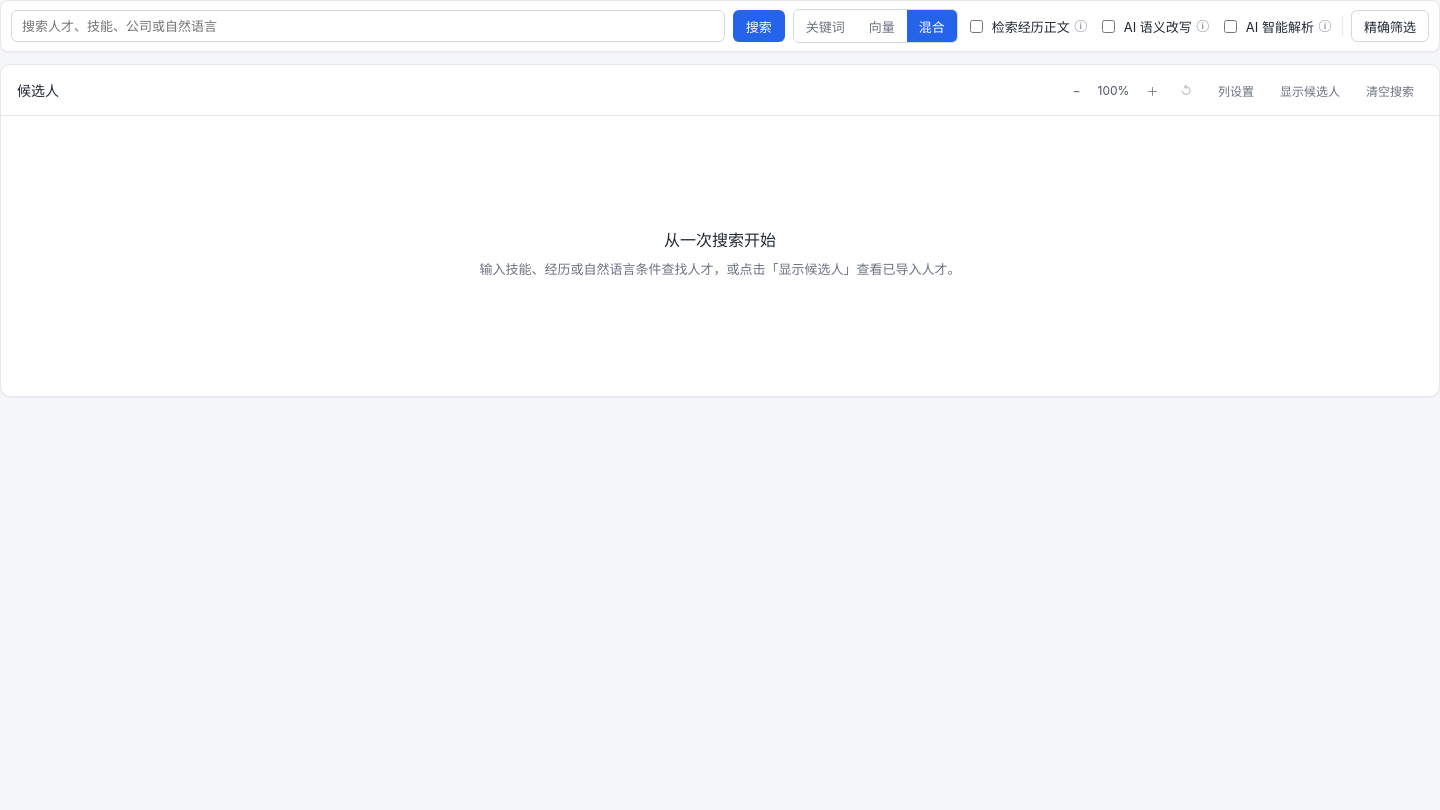
点左列「全部」清空两级并收起
Click the button "精确筛选" at {"x": 1390, "y": 26}, box [1351,10,1429,42]
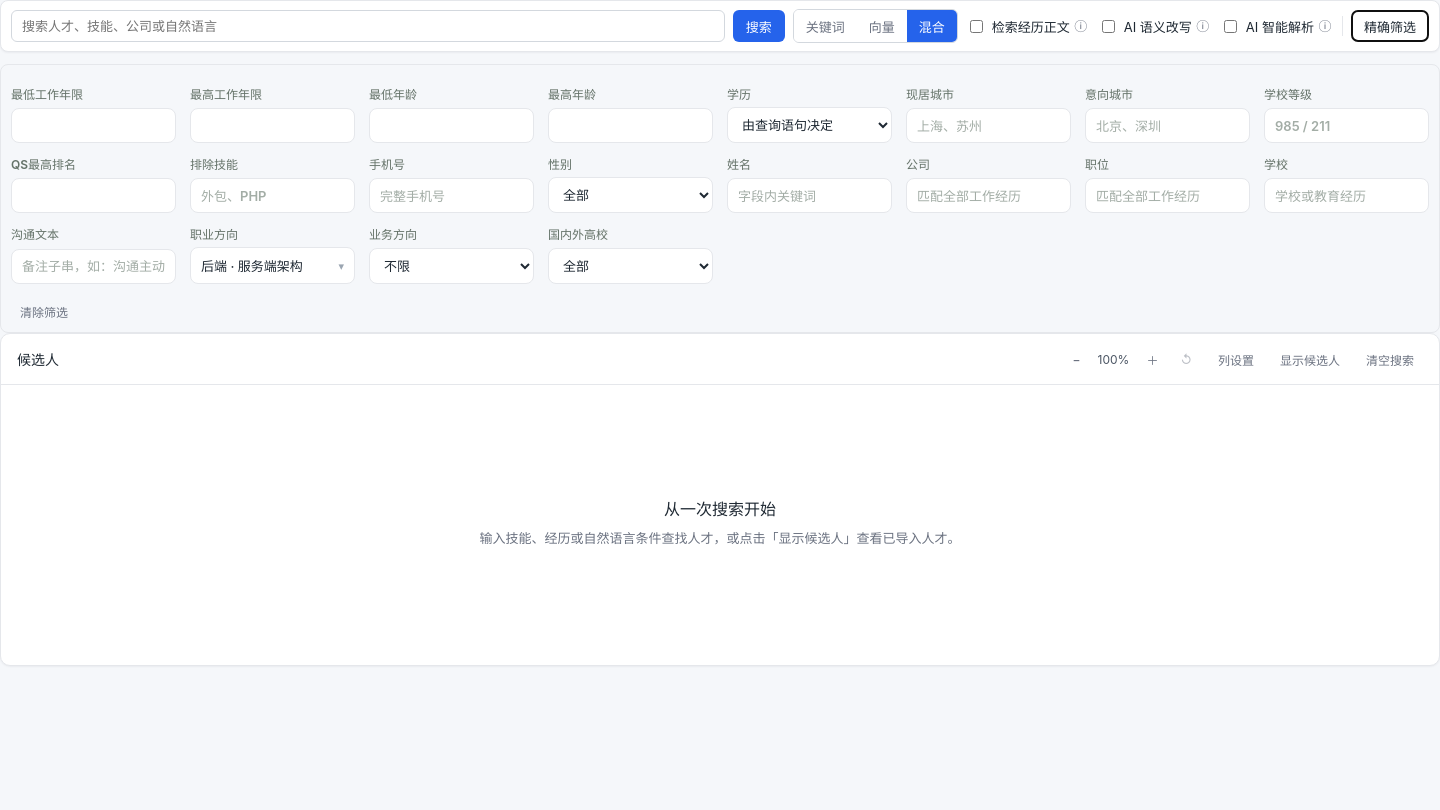
Click the button with aria-label "职业方向" at {"x": 272, "y": 266}, box [190,247,355,284]
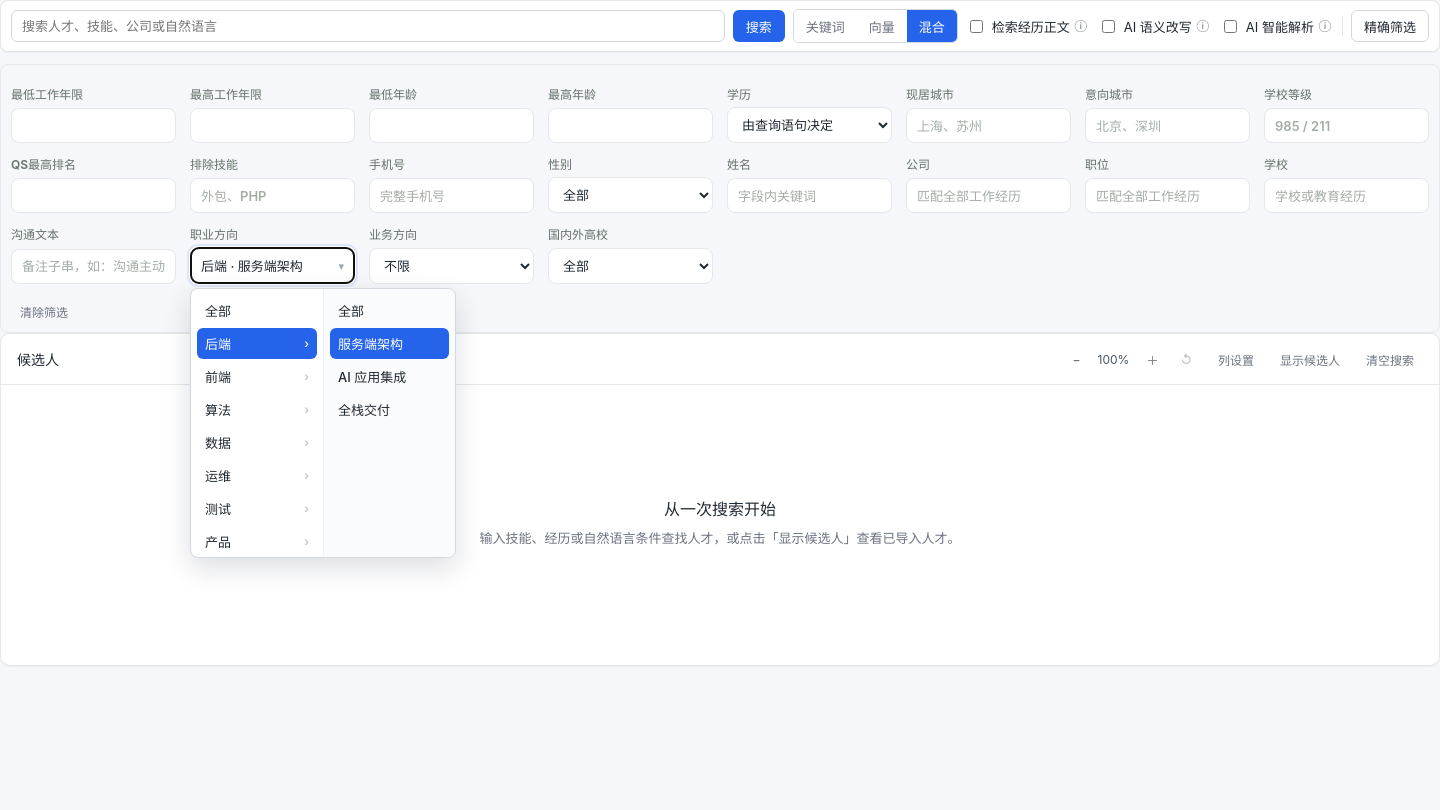
Click the button with aria-label "全部职业方向" at {"x": 257, "y": 310}, box [197,295,317,326]
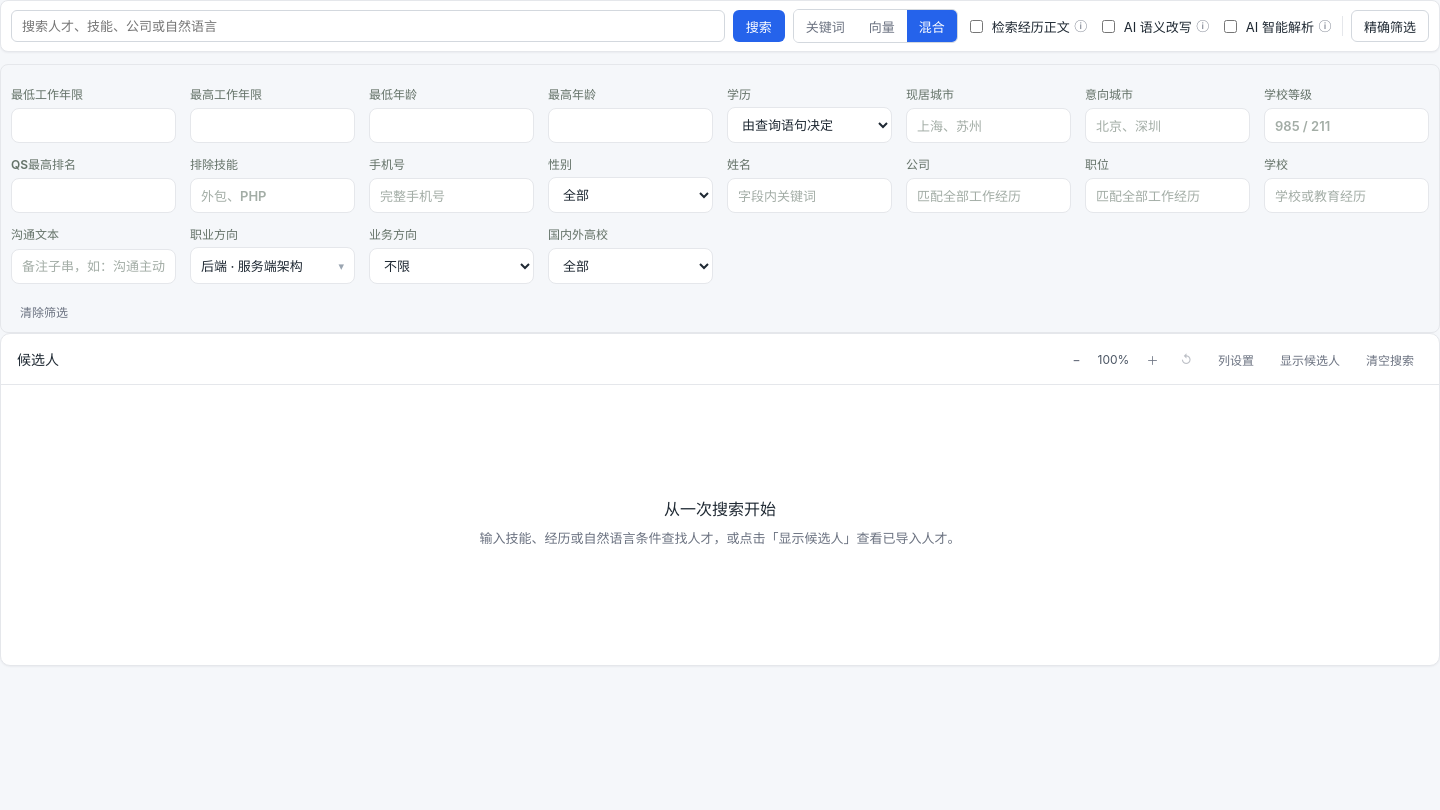
Expected: the element "职业方向选项" is gone
